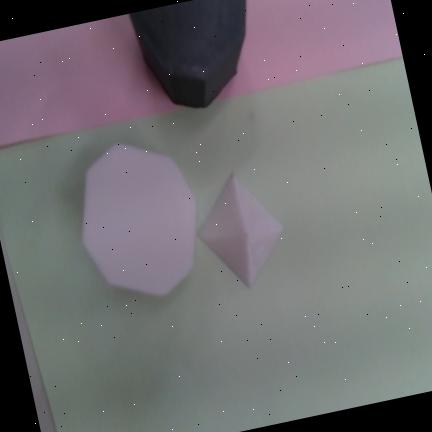Piramide: (197, 172, 286, 288)
Prisma_hexagonal: (82, 143, 198, 297), (129, 0, 247, 108)
